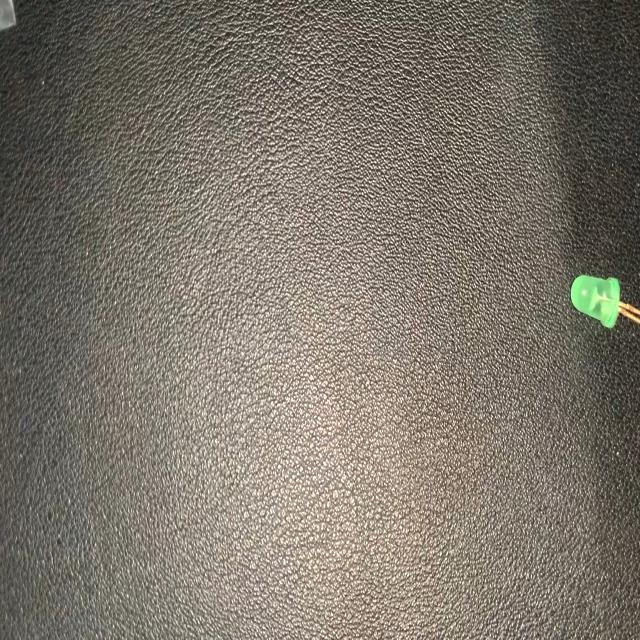LED: (567, 261, 640, 344)
